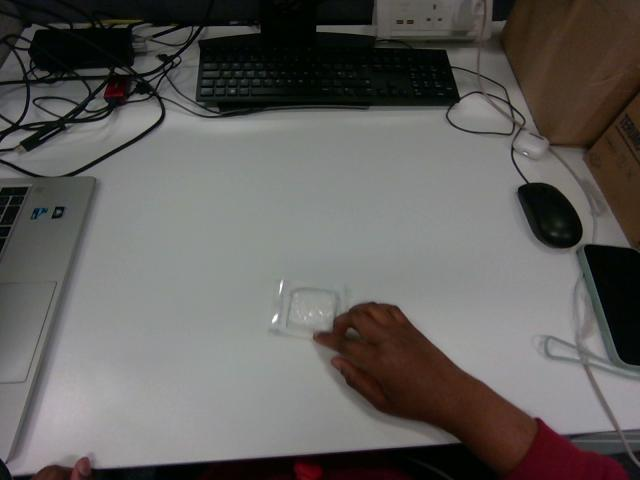gauze: (269, 280, 347, 337)
